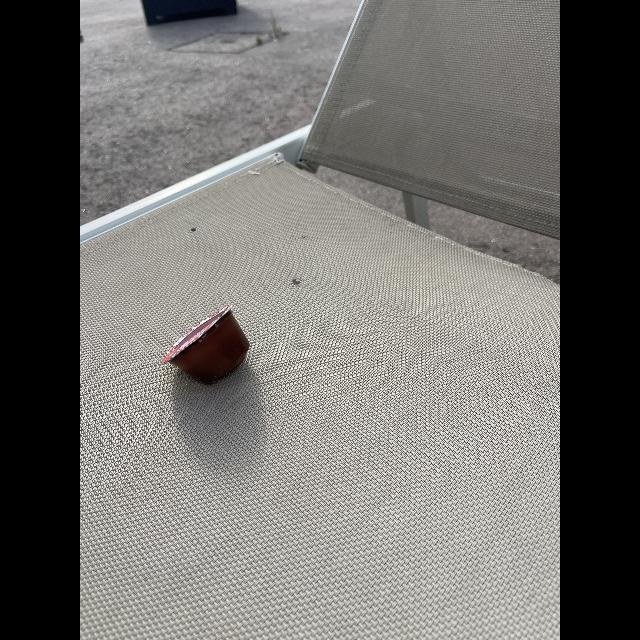damaged_capsule: (161, 302, 253, 386)
